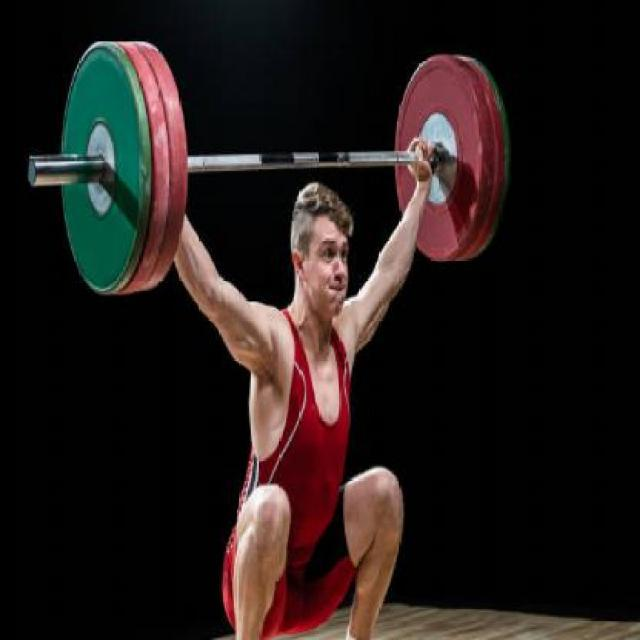Barbell: (25, 154, 38, 188)
